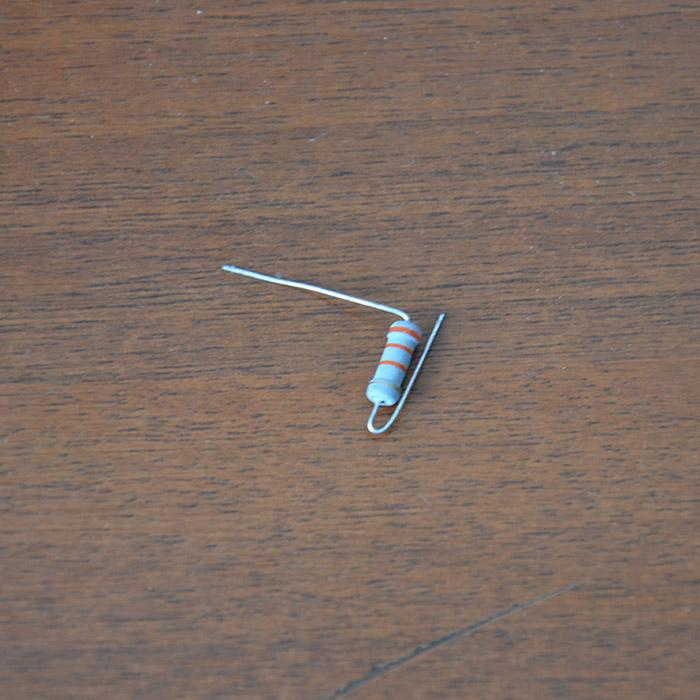resistor: (365, 319, 421, 406)
